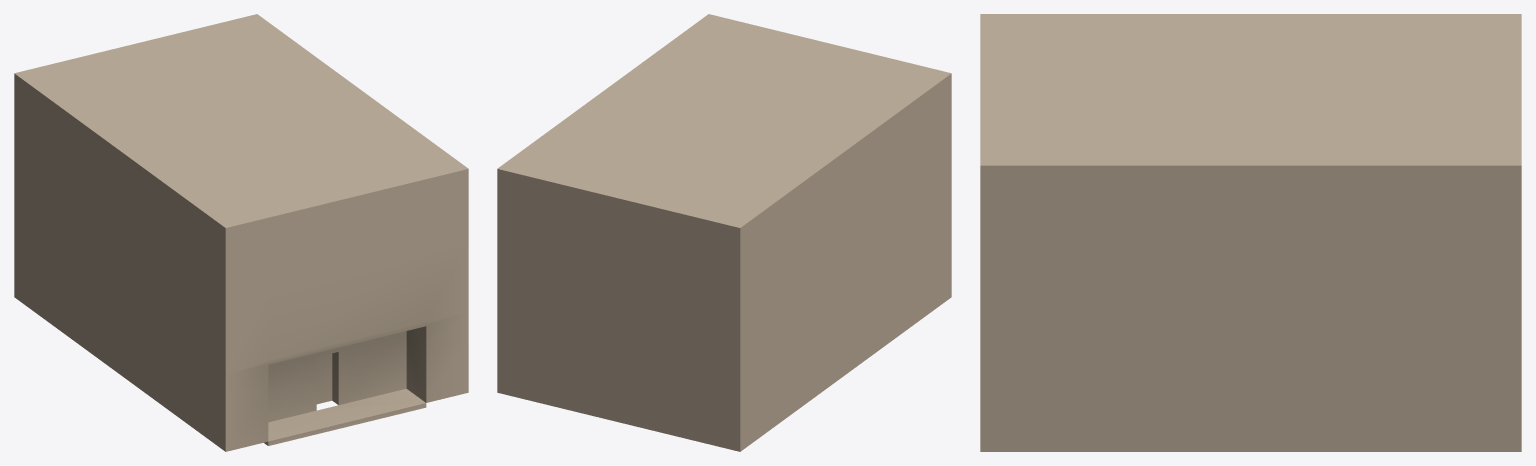
Rendered from massing.glb.
3 views of the same model, side by side, from view 1: azimuth 30°, elevation 25°; view 2: azimuth 150°, elevation 25°; view 3: azimuth 270°, elevation 25° (orthographic). The views are drawn at different scales.
Parts seen in each view (by area): view 1: building/exterior; view 2: building/exterior; view 3: building/exterior.
Part boxes in pixels (box(x1,y1,x2,y2)): building/exterior: box(14, 14, 468, 451); building/exterior: box(497, 14, 951, 451); building/exterior: box(980, 14, 1521, 451).
Size of the model in its own units: 10 by 8.98 by 15.07.
